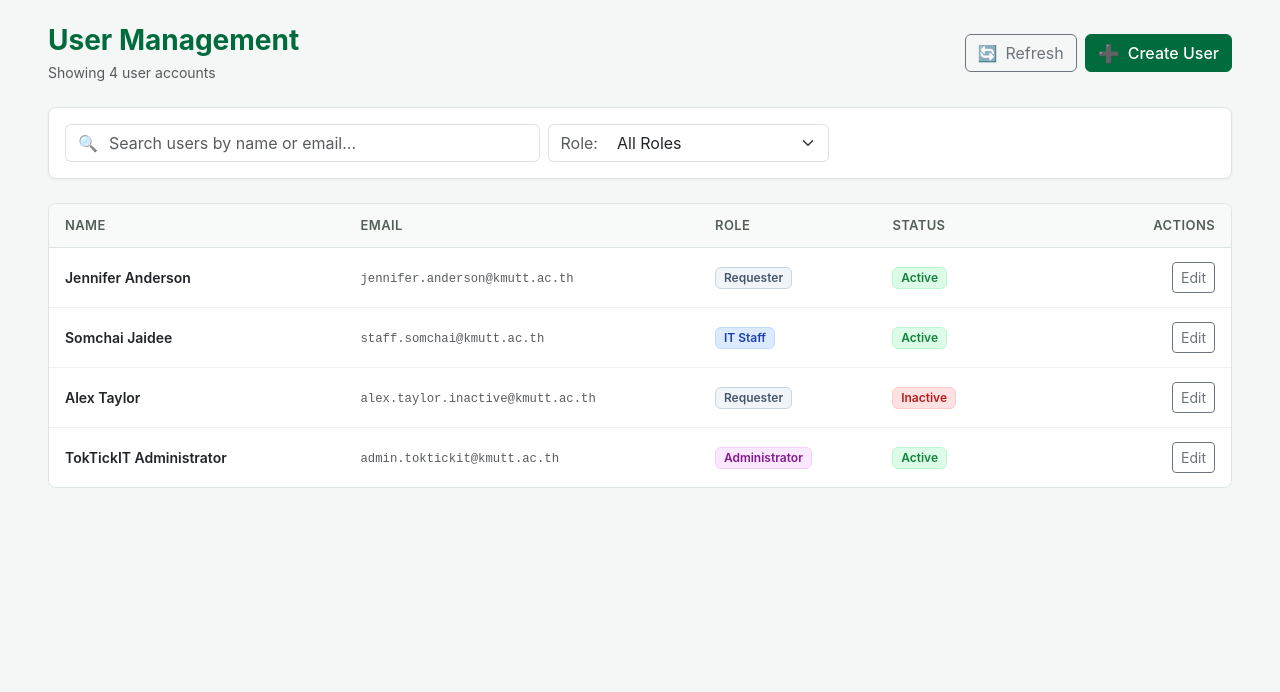
Scenario: Administrator User Management Component (UI-09, UI-10) › UI-10: Safety alerts, deactivation confirmation, and context sync › resets initial password via password reset expander
This screenshot has width=1280, height=692.
Expected: the text "Somchai Jaidee" is shown, [65,329,172,346]
Click the button with test id "edit-user-btn-5" at (1194, 338), box [1172,322,1215,353]
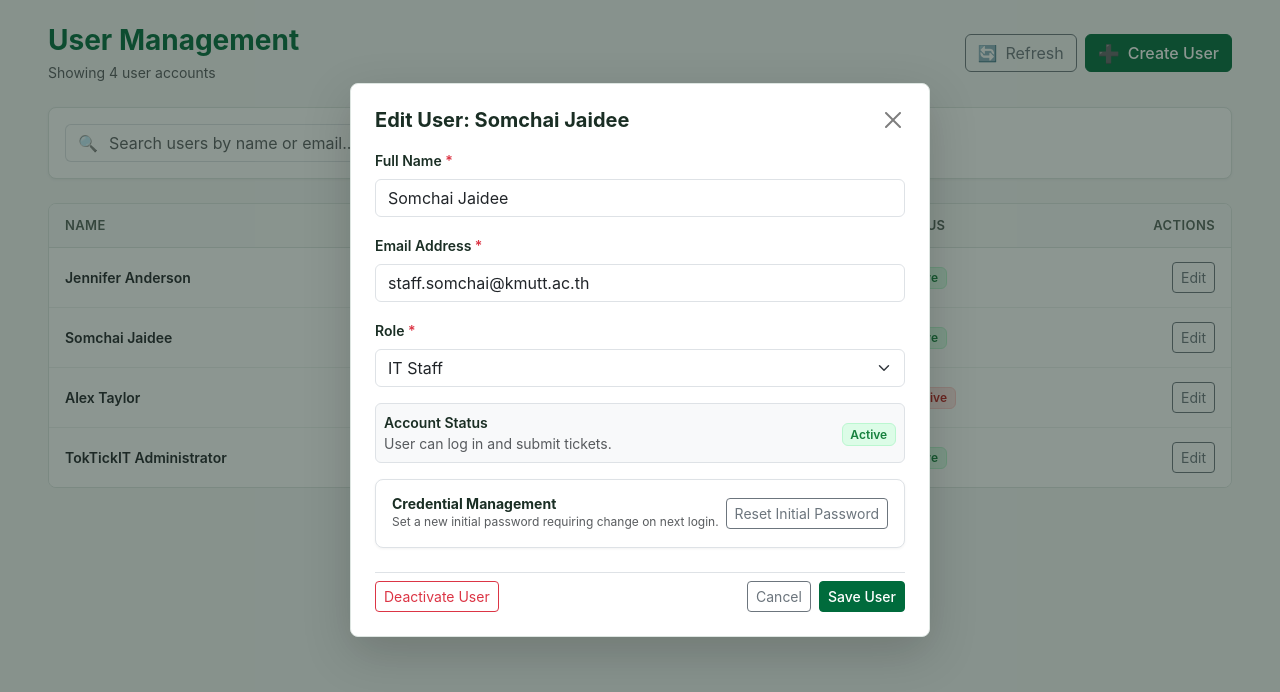
# Expand Credential Management section
Click the button with test id "toggle-reset-section-btn" at (807, 514), box [726,498,888,529]
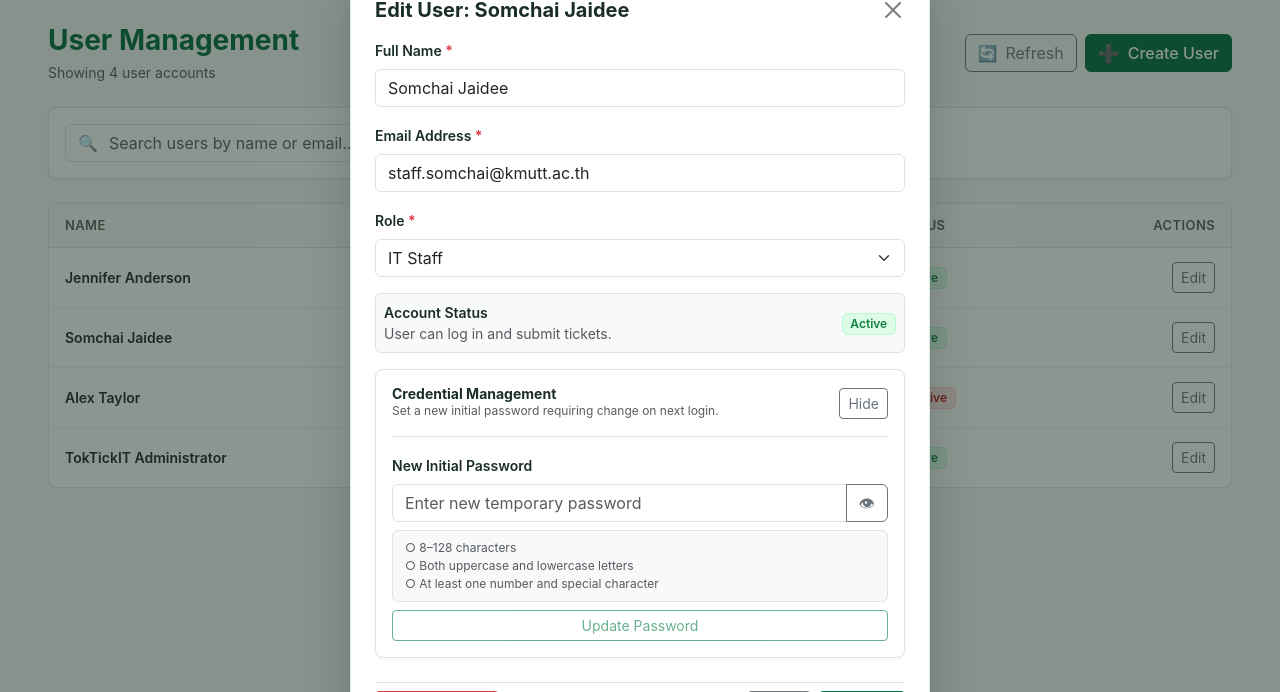
Result: the password field with test id "reset-password-input" is shown
Type "NewTemporaryPass123!" into the password field with test id "reset-password-input" at (619, 503), box [392,484,847,522]
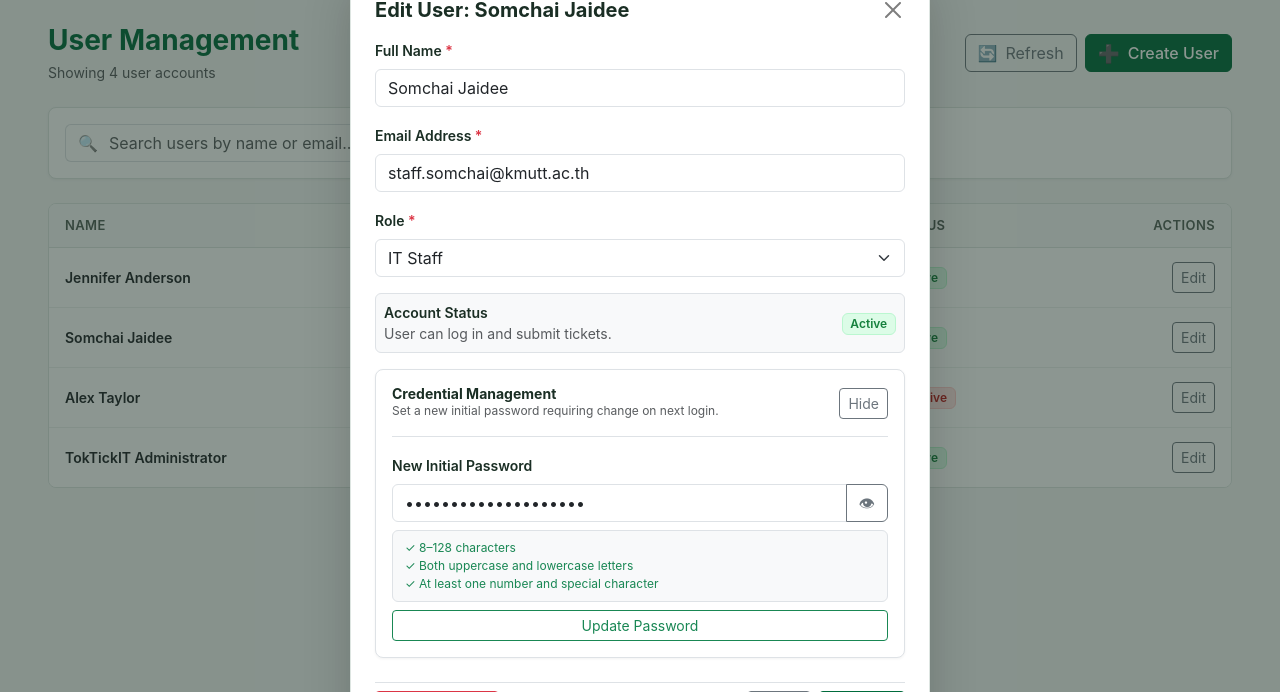
Result: the button with test id "submit-reset-password-btn" is enabled
Click the button with test id "submit-reset-password-btn" at (640, 626), box [392,610,888,641]
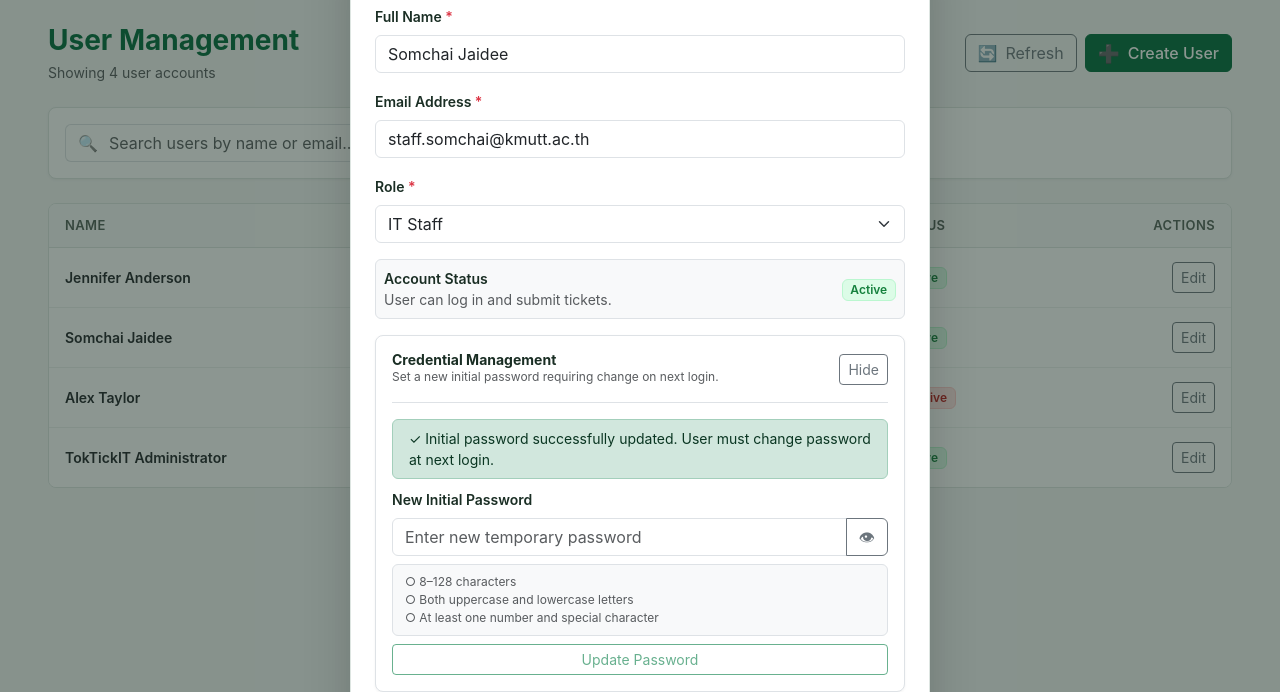
Result: the message with test id "reset-password-success" is shown at [392,419,888,479]
